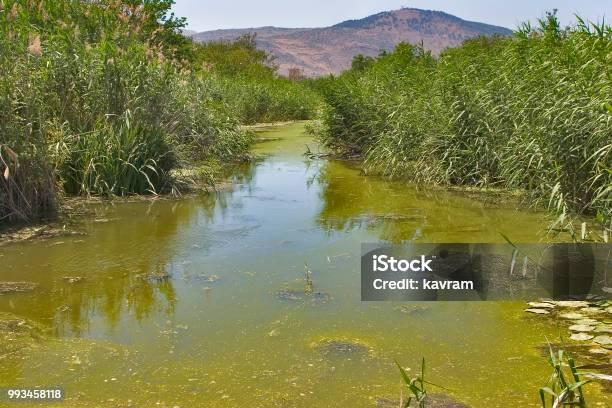Stagnant water: (12, 126, 612, 408)
